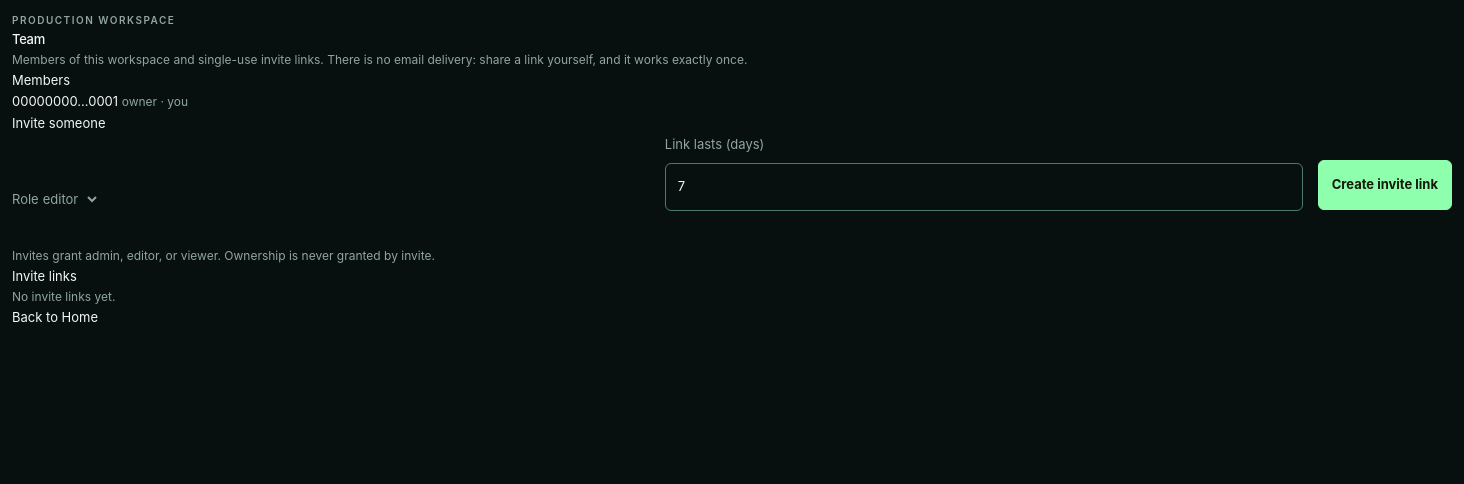
TeamPage › lists members and creates a single-use invite link for an owner
Expected: the heading "Team" is shown, [12,30,45,46]
Expected: the text "owner · you" is shown, [122,94,188,109]
Click the button "Create invite link": (1385, 185) [1318,160,1452,210]
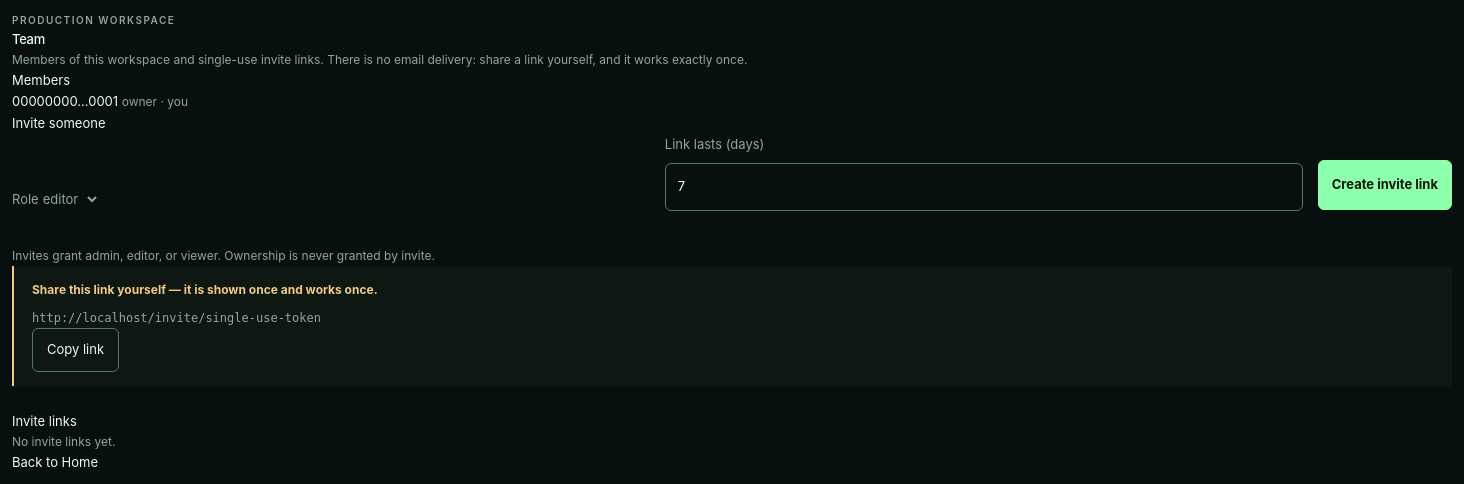
Expected: the text "Share this link yourself — it is shown once and works once." is shown, [32,282,378,297]
Expected: the text "http://localhost/invite/single-use-token" is shown, [32,310,321,324]
